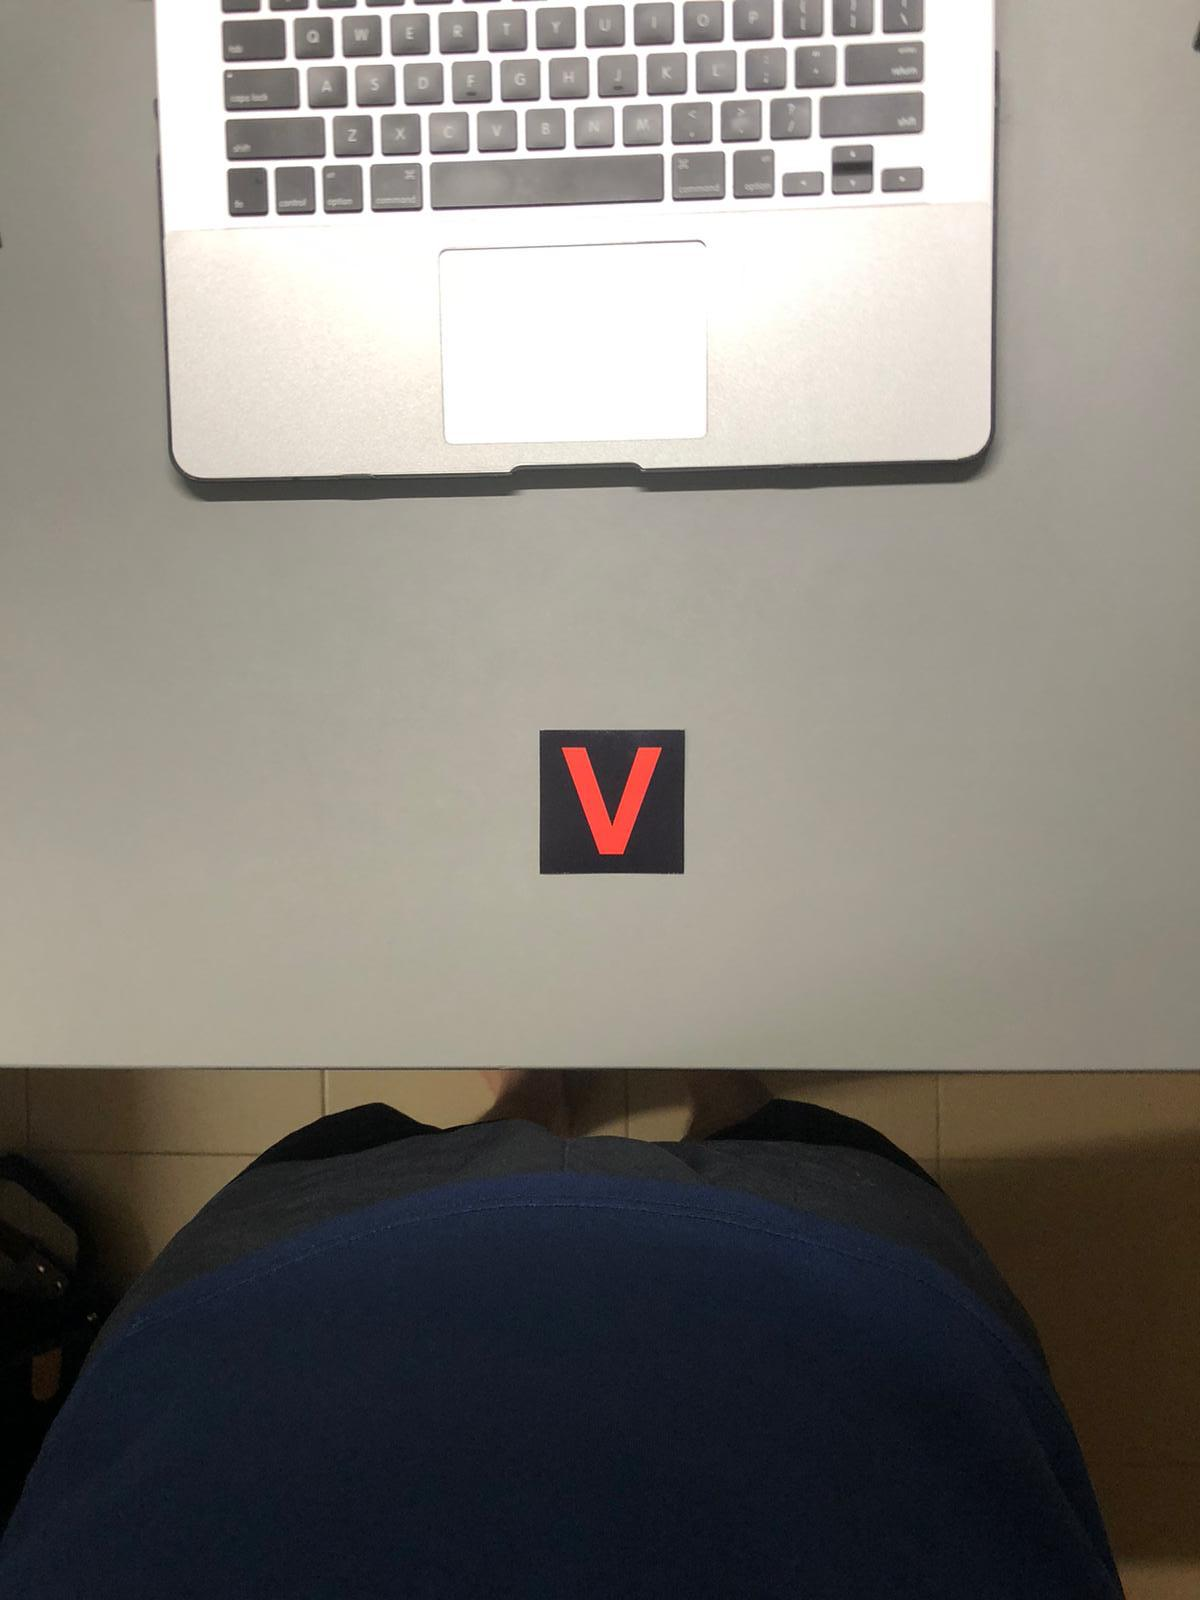V: (534, 719, 687, 881)
